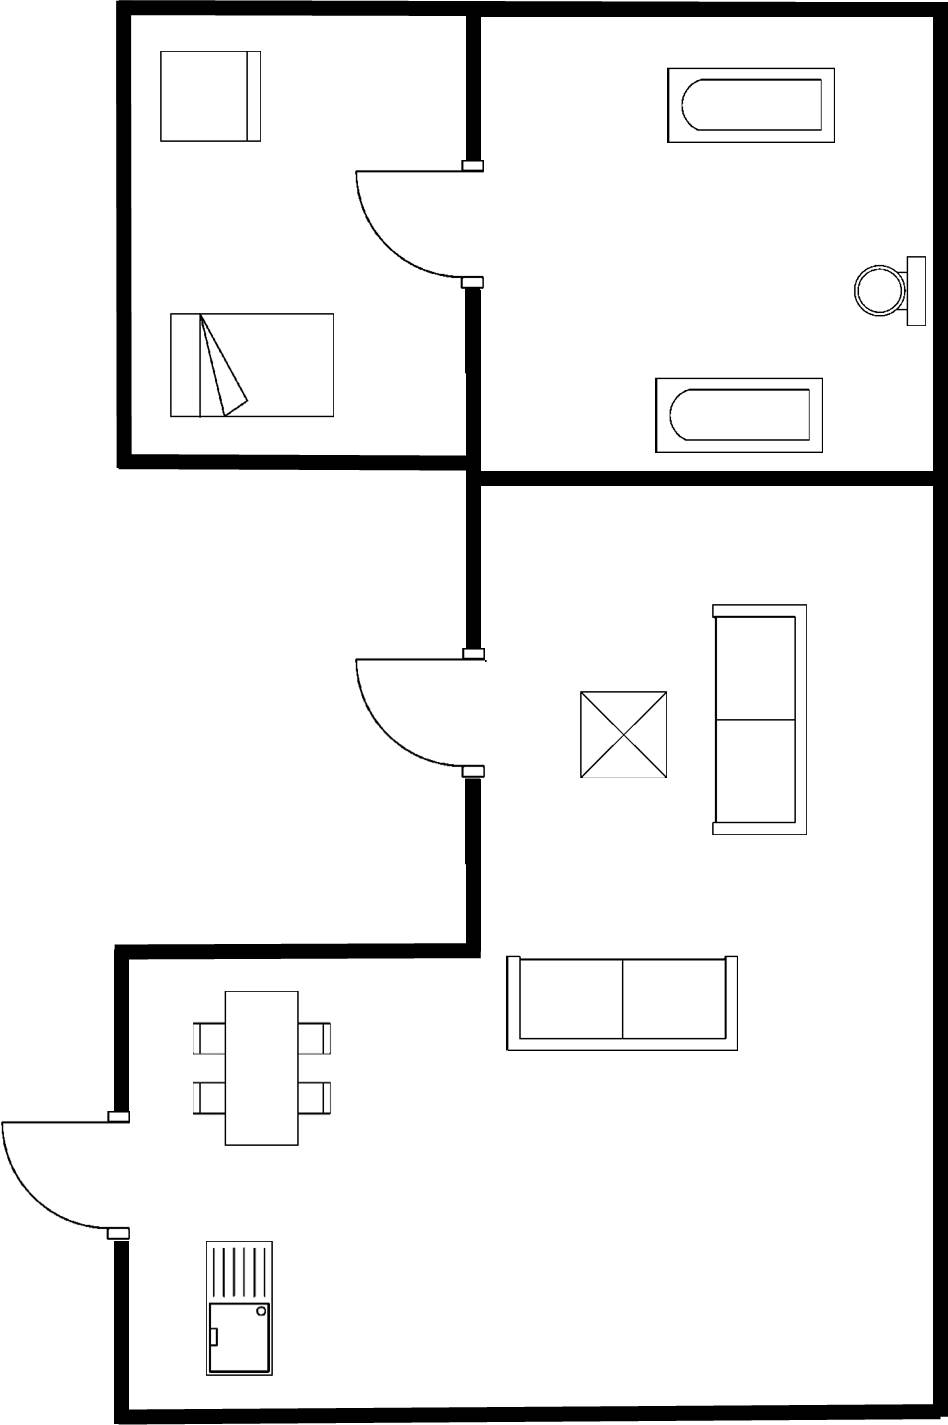bed: (163, 308, 339, 424)
coffee_table: (573, 685, 673, 784)
dining_table: (188, 984, 338, 1156)
large_sink: (848, 249, 931, 328)
large_sofa: (499, 949, 745, 1059), (705, 598, 811, 844)
sink: (199, 1235, 280, 1387)
small_sofa: (153, 42, 268, 149)
tub: (659, 59, 842, 156), (648, 370, 830, 458)
